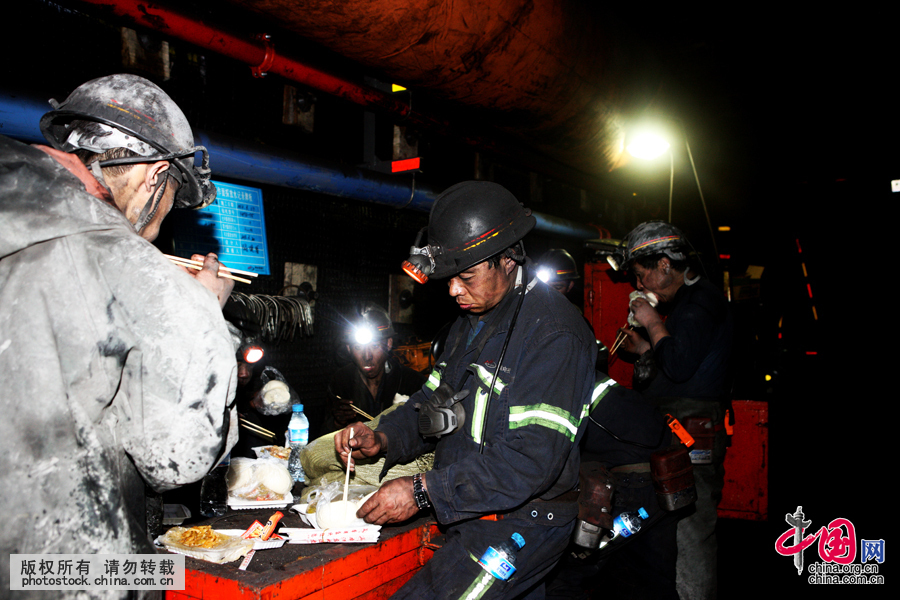helmet: (409, 178, 537, 313)
